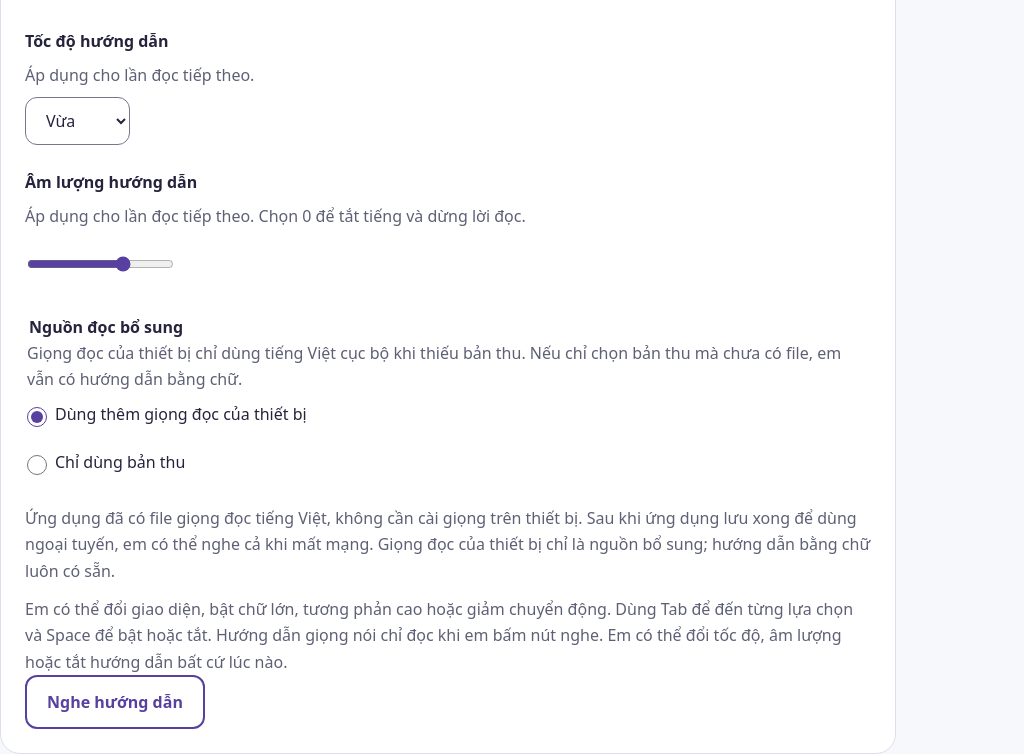
it: repeats with updated rate and volume, and can disable optional TTS
The width and height of the screenshot is (1024, 754).
(page scrolled)
Click the button "Nghe hướng dẫn" at [115, 702], box [25,675,205,730]
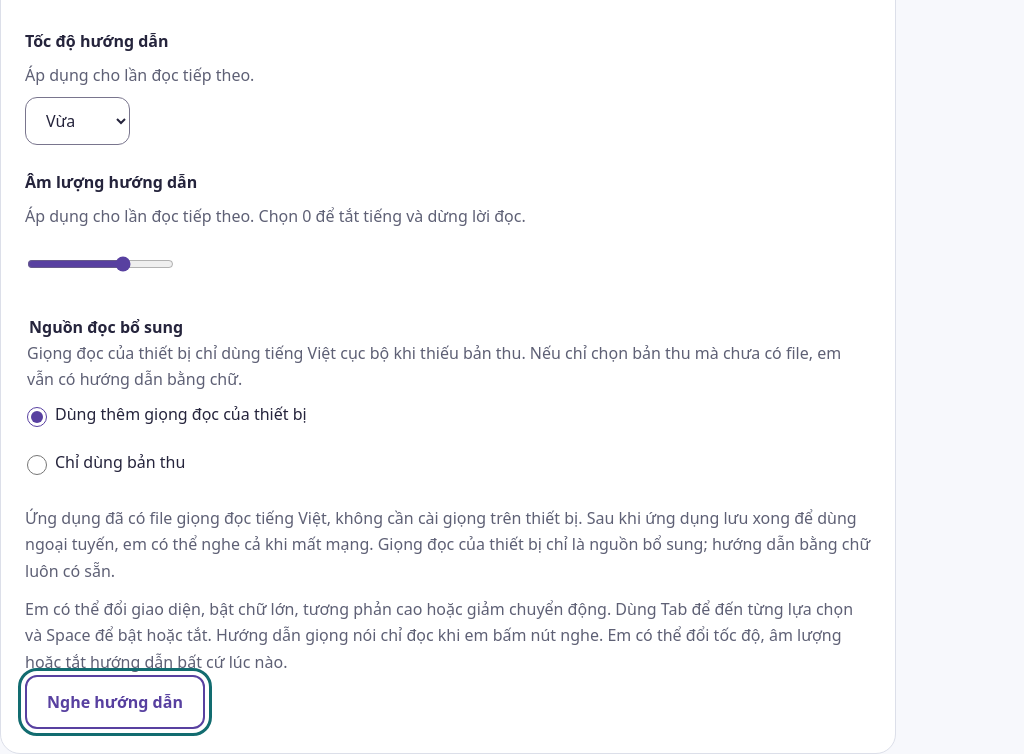
Select "Chậm" in the dropdown labelled "Tốc độ hướng dẫn" at [78, 121], box [25,97,130,145]
(page scrolled)
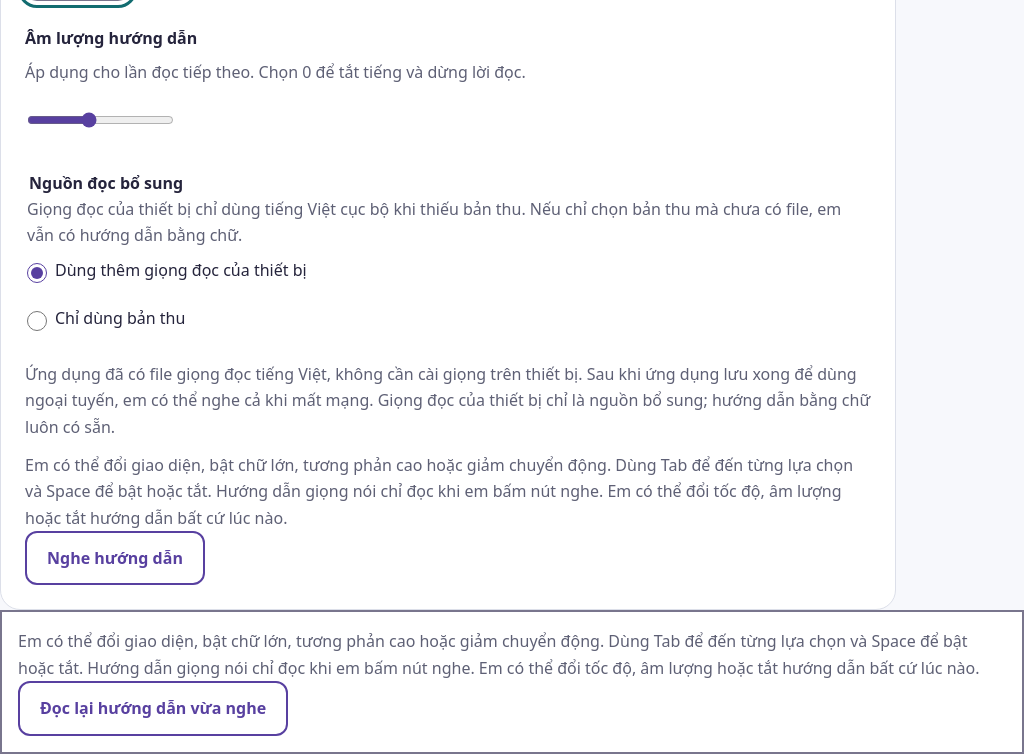
Click the button "Đọc lại hướng dẫn vừa nghe" at [153, 708], box [18,681,288,736]
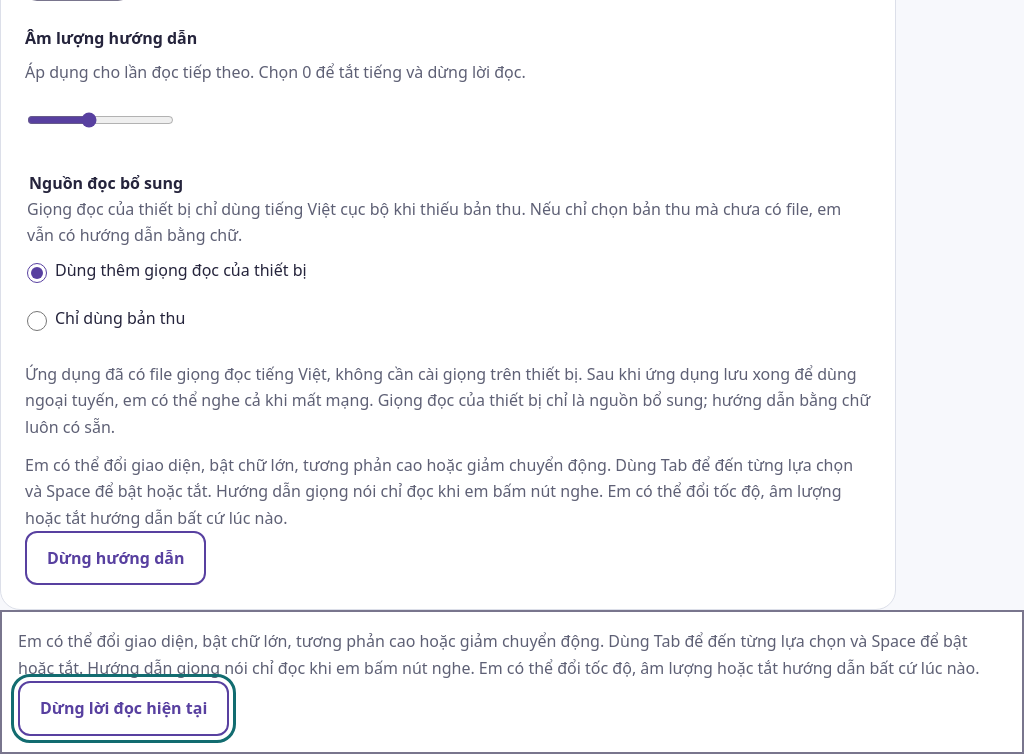
Click the radio button labelled "Chỉ dùng bản thu" at [37, 321], box [27,311,47,331]
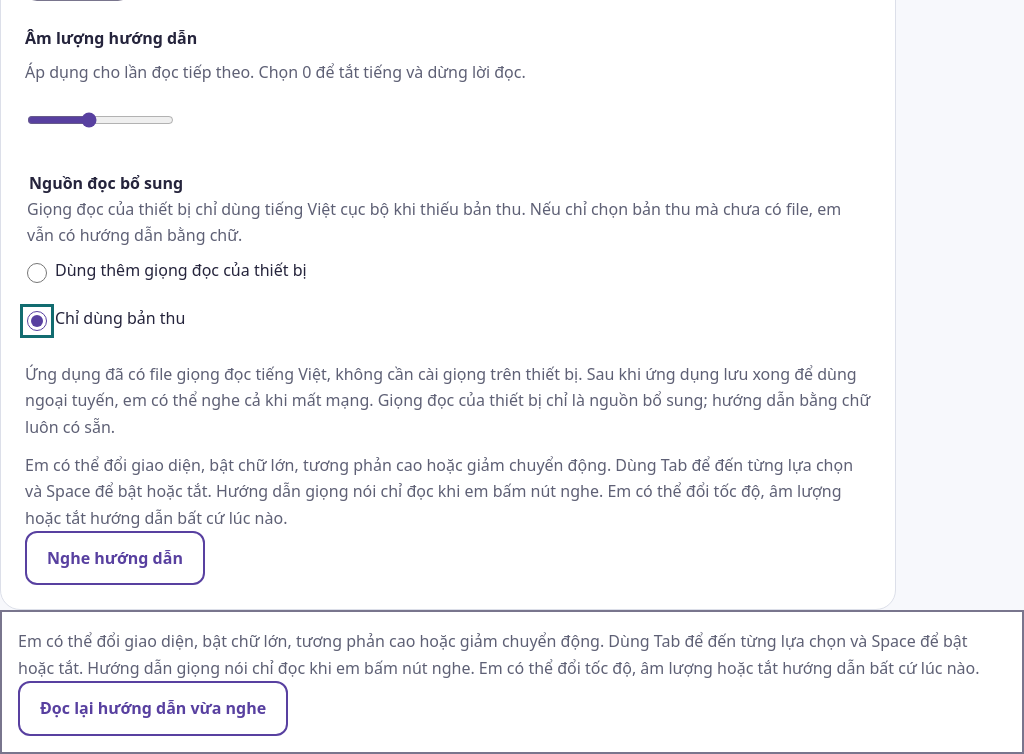
Click the button "Nghe hướng dẫn" at [115, 558], box [25,531,205,586]
(page scrolled)
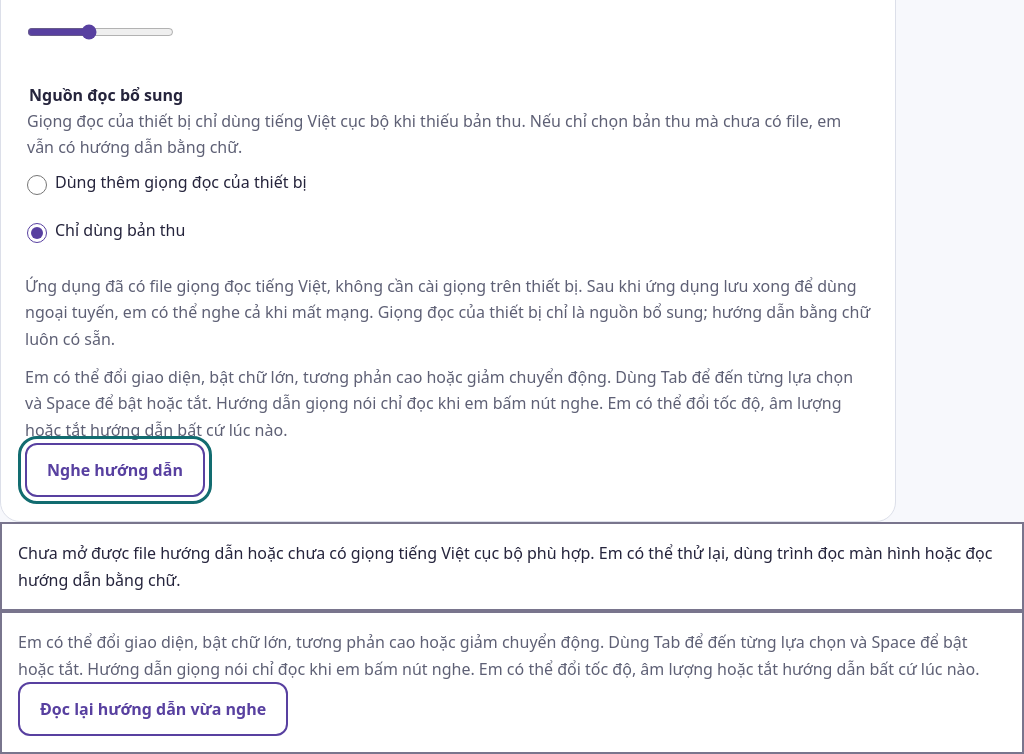
Check: the element named "Hướng dẫn vừa yêu cầu" shows "Em có thể đổi giao diện", box [18,631,980,680]
Check: the message shows "Chưa mở được file hướng dẫn", box [18,542,992,591]
